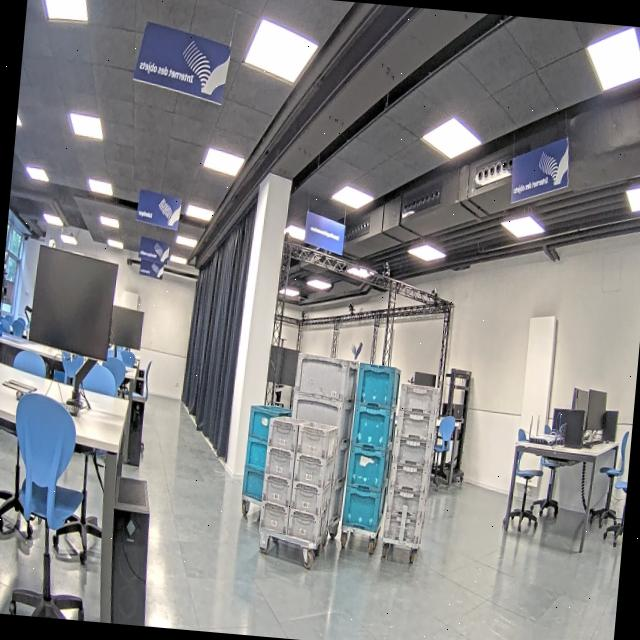Box3G: (382, 506, 426, 541), (386, 484, 429, 518), (398, 382, 442, 415), (392, 436, 433, 467), (395, 410, 437, 440), (387, 464, 430, 491)
Box4G: (288, 394, 354, 446), (292, 354, 358, 400)
Box8G: (292, 419, 340, 462), (288, 477, 332, 518), (292, 448, 334, 490), (286, 505, 326, 543), (264, 416, 298, 452), (262, 446, 296, 481), (259, 474, 292, 509), (257, 502, 290, 536)
BoxB4: (338, 486, 385, 534), (350, 406, 398, 452), (346, 447, 391, 494), (356, 362, 400, 409)
BoxB8: (248, 402, 290, 440), (240, 467, 266, 502), (243, 437, 268, 472)
